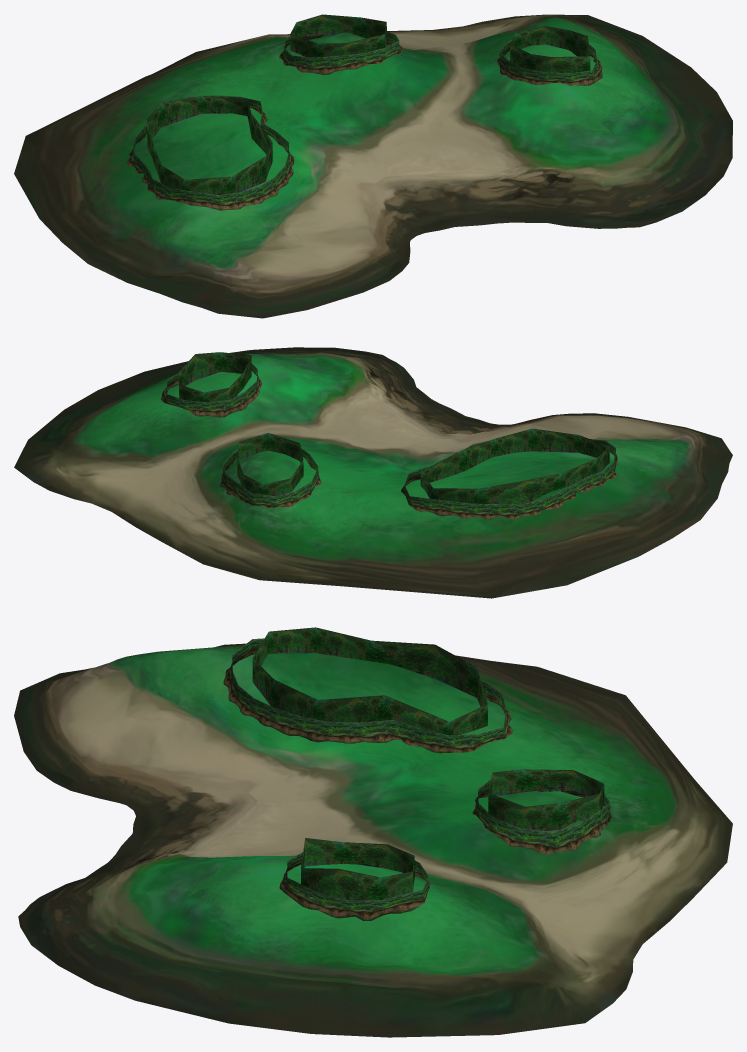
File: pir_m_are_isl_driftwood.fbx
3 renders of one model, top to bottom at view 1: azimuth 30°, elevation 25°; view 2: azimuth 150°, elevation 25°; view 3: azimuth 270°, elevation 25°, orthographic. The views are drawn at different scales.
Visible parts, largest first — view 1: island, tree_wall_3, berm_wall_3, tree_wall_2, tree_wall_1, berm_wall_2, berm_wall_1; view 2: island, tree_wall_3, berm_wall_3, tree_wall_1, tree_wall_2, berm_wall_2, berm_wall_1; view 3: island, tree_wall_3, berm_wall_3, tree_wall_1, tree_wall_2, berm_wall_2, berm_wall_1.
Part boxes in pixels (x1=…): island: x1=14, y1=14, x2=732, y2=318; tree_wall_3: x1=147, y1=96, x2=272, y2=194; berm_wall_3: x1=127, y1=95, x2=294, y2=210; tree_wall_2: x1=290, y1=14, x2=386, y2=57; tree_wall_1: x1=510, y1=26, x2=590, y2=73; berm_wall_2: x1=279, y1=31, x2=403, y2=74; berm_wall_1: x1=497, y1=40, x2=602, y2=85; island: x1=14, y1=347, x2=732, y2=598; tree_wall_3: x1=420, y1=428, x2=609, y2=504; berm_wall_3: x1=401, y1=439, x2=617, y2=519; tree_wall_1: x1=179, y1=352, x2=251, y2=402; tree_wall_2: x1=237, y1=433, x2=303, y2=496; berm_wall_2: x1=220, y1=448, x2=321, y2=507; berm_wall_1: x1=161, y1=363, x2=262, y2=417; island: x1=14, y1=643, x2=732, y2=1037; tree_wall_3: x1=252, y1=627, x2=487, y2=735; berm_wall_3: x1=223, y1=638, x2=512, y2=753; tree_wall_1: x1=301, y1=838, x2=414, y2=900; tree_wall_2: x1=488, y1=769, x2=604, y2=830; berm_wall_2: x1=472, y1=779, x2=611, y2=854; berm_wall_1: x1=279, y1=852, x2=430, y2=920.
Size of the model in its own units: 114207 by 13007 by 88303.
2 materials, 2 textured.
